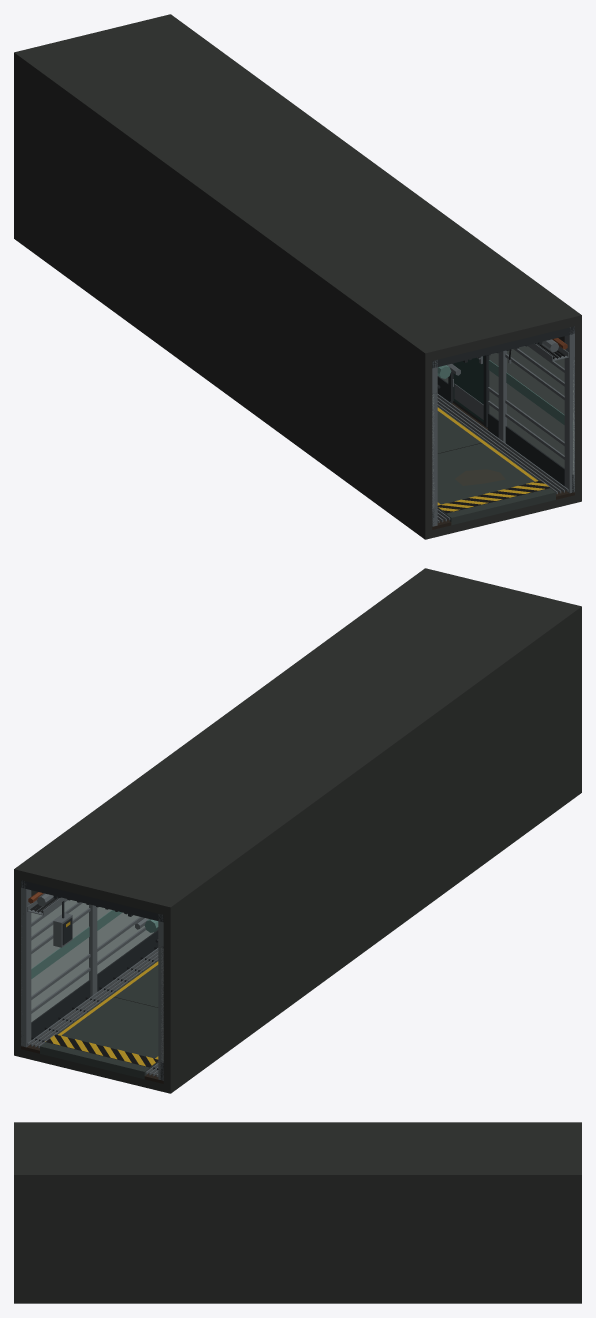
Rendered from lab_corridor.glb.
The picture shows the model from 3 angles, top to bottom: view 1: azimuth 30°, elevation 25°; view 2: azimuth 150°, elevation 25°; view 3: azimuth 270°, elevation 25°; orthographic projection. The views are drawn at different scales.
Visible parts, largest first — view 1: shell_nx, ceiling_slab, wall_px, walkway, floor_slab, structure, shell_px, grate_px, side_door_1, side_door_1_leaf, hazard_bands, hazard_stripes; view 2: shell_nx, ceiling_slab, wall_px, walkway, floor_slab, structure, shell_px, grate_px, hazard_bands; view 3: shell_px, ceiling_slab, floor_slab.
Part boxes in pixels (<box>): shell_nx: <box>14,51,432,539</box>; ceiling_slab: <box>14,14,581,362</box>; wall_px: <box>437,345,574,492</box>; walkway: <box>437,406,555,525</box>; floor_slab: <box>14,231,581,539</box>; structure: <box>432,326,574,526</box>; shell_px: <box>164,14,581,502</box>; grate_px: <box>437,394,568,494</box>; side_door_1: <box>448,355,489,427</box>; side_door_1_leaf: <box>453,356,483,422</box>; hazard_bands: <box>437,480,550,513</box>; hazard_stripes: <box>438,480,548,511</box>; shell_nx: <box>163,605,581,1093</box>; ceiling_slab: <box>14,568,581,916</box>; wall_px: <box>21,899,158,1045</box>; walkway: <box>40,960,158,1079</box>; floor_slab: <box>14,785,581,1093</box>; structure: <box>21,880,163,1080</box>; shell_px: <box>14,568,430,1056</box>; grate_px: <box>27,948,158,1048</box>; hazard_bands: <box>45,1034,158,1067</box>; shell_px: <box>14,1178,581,1302</box>; ceiling_slab: <box>14,1122,581,1181</box>; floor_slab: <box>14,1298,581,1303</box>.
Size of the model in its own units: 2.64 by 3 by 12.
